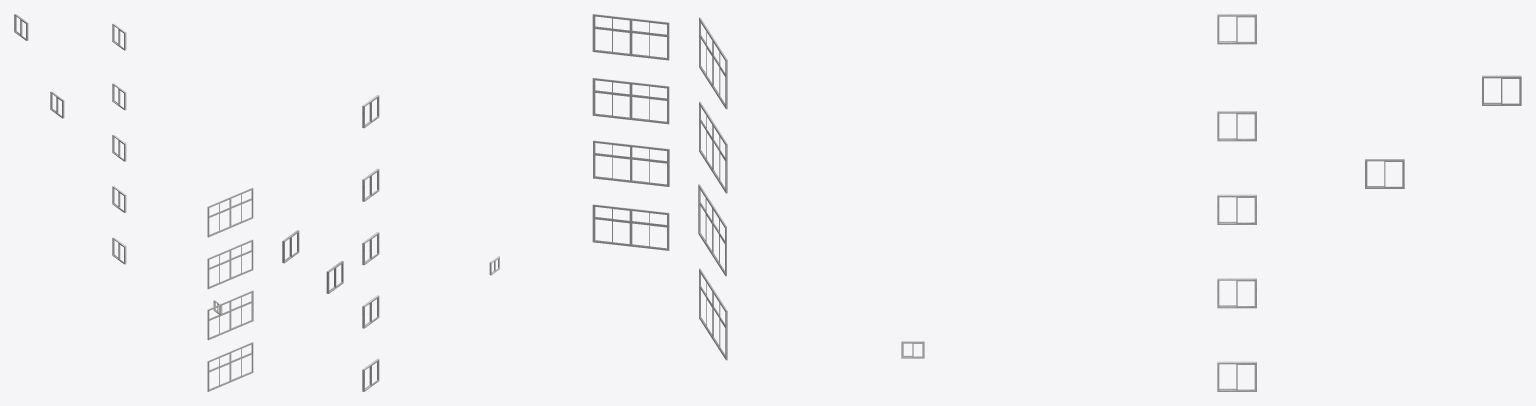
The model's file is TWBuildingL_g_WindowB_Mesh.fbx.
The picture shows the model from 3 angles, left to right: view 1: azimuth 30°, elevation 25°; view 2: azimuth 150°, elevation 25°; view 3: azimuth 270°, elevation 25°; orthographic projection. The views are drawn at different scales.
Parts seen in each view (by area): view 1: TWBuildingL_g_WindowB_Mesh; view 2: TWBuildingL_g_WindowB_Mesh; view 3: TWBuildingL_g_WindowB_Mesh.
Boxes of the visible parts, x1=… form: TWBuildingL_g_WindowB_Mesh: x1=14, y1=14, x2=253, y2=391; TWBuildingL_g_WindowB_Mesh: x1=282, y1=14, x2=669, y2=391; TWBuildingL_g_WindowB_Mesh: x1=698, y1=14, x2=1521, y2=391.
Bounding box in the file's own units: 474 × 1353 × 2679.
1 material, 1 textured.
